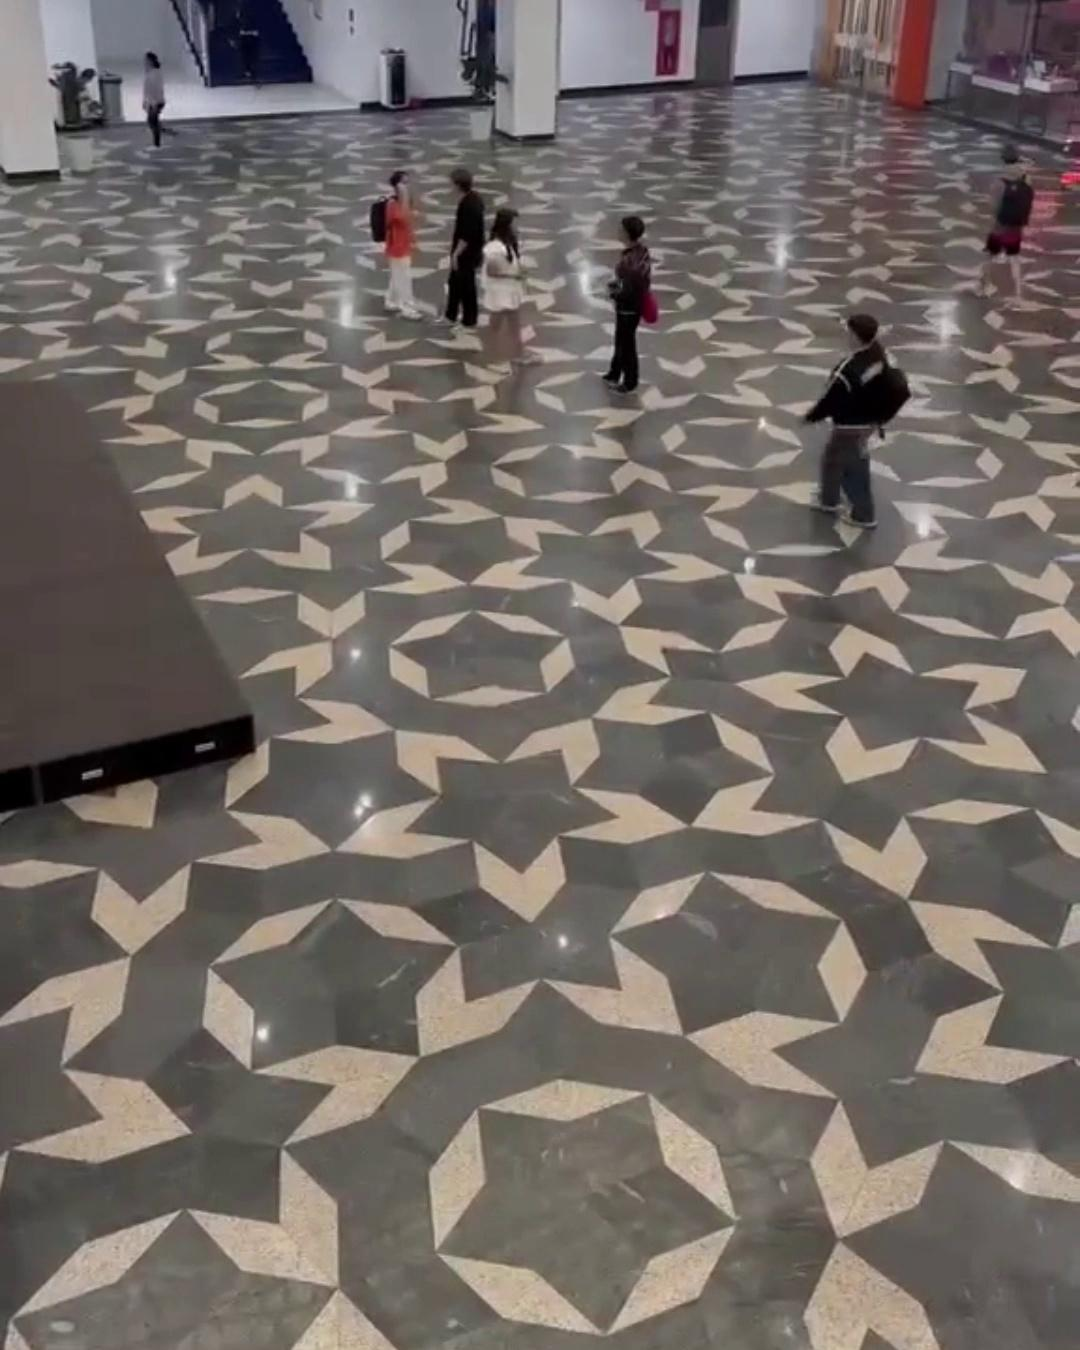your_class: (800, 313, 911, 527), (604, 216, 658, 397), (978, 143, 1034, 307), (480, 208, 536, 374), (369, 170, 422, 322), (436, 166, 485, 327), (141, 52, 177, 153), (229, 10, 267, 91)
